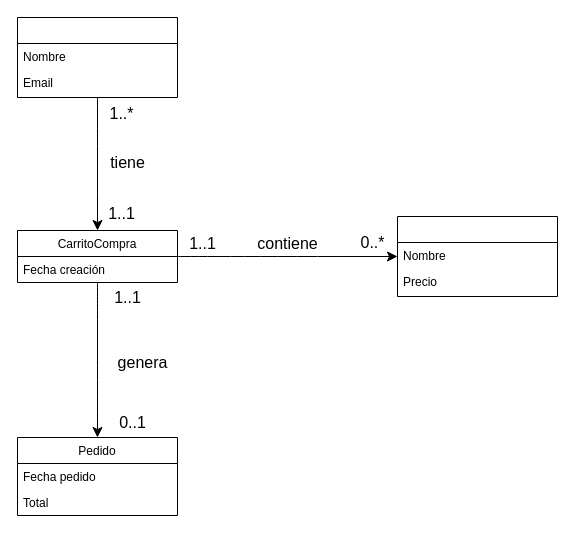
The diagram is 575 pixels wide and 536 high, and some of its shapes have lost their labels. The box of each missing label's shape, as (x1, y1, x2, y2) in pixels:
Cliente: (16, 16, 178, 98)
Producto: (396, 216, 558, 296)
